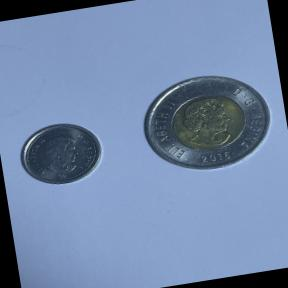Canada-10cent-B: (11, 114, 111, 194)
Canada-2Dollar-B: (132, 63, 280, 182)
